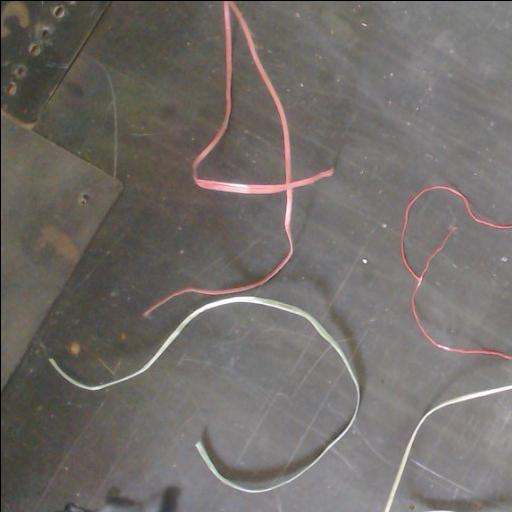conveyor belt: (1, 1, 512, 512), (405, 191, 512, 354), (391, 392, 512, 512)
thread: (49, 295, 359, 492), (143, 1, 332, 315), (400, 186, 512, 360), (383, 383, 512, 512)
